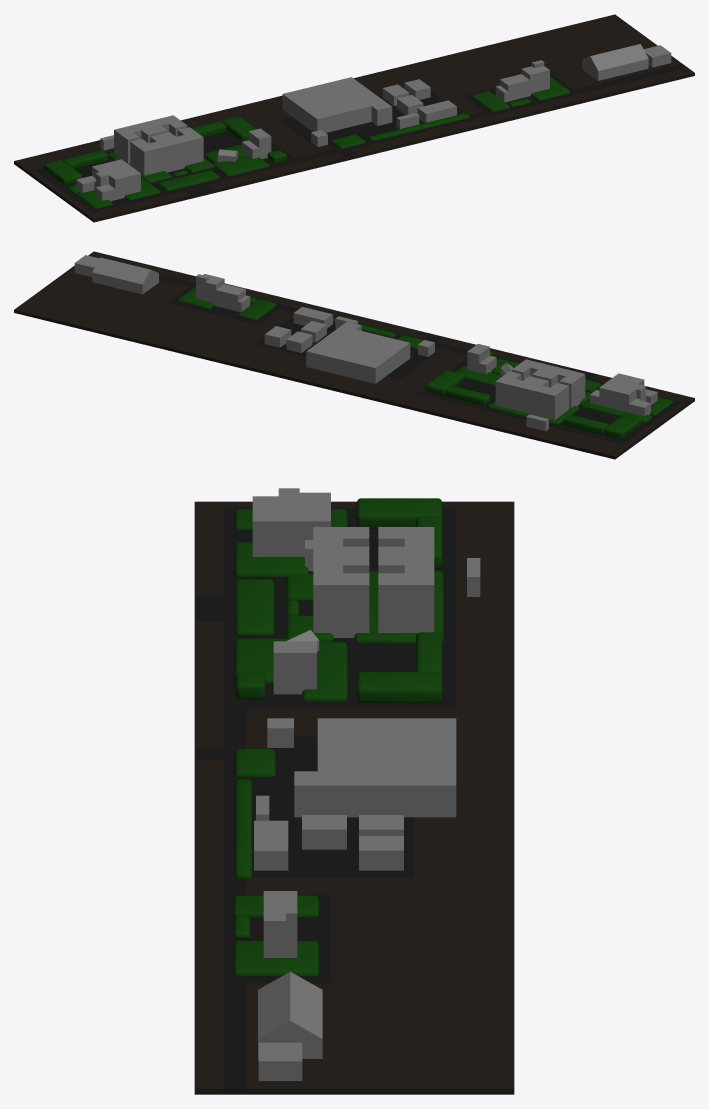
File: Administration Building Area_long.fbx
3 renders of one model, top to bottom at view 1: azimuth 30°, elevation 25°; view 2: azimuth 150°, elevation 25°; view 3: azimuth 270°, elevation 25°, orthographic. The views are drawn at different scales.
Parts seen in each view (by area): view 1: Admin_l; view 2: Admin_l; view 3: Admin_l.
Part boxes in pixels (box(x1,y1,x2,y2)): Admin_l: box(14, 14, 694, 222); Admin_l: box(14, 251, 694, 459); Admin_l: box(194, 488, 514, 1094).
Size of the model in its own units: 99.97 by 4.68 by 23.01.
